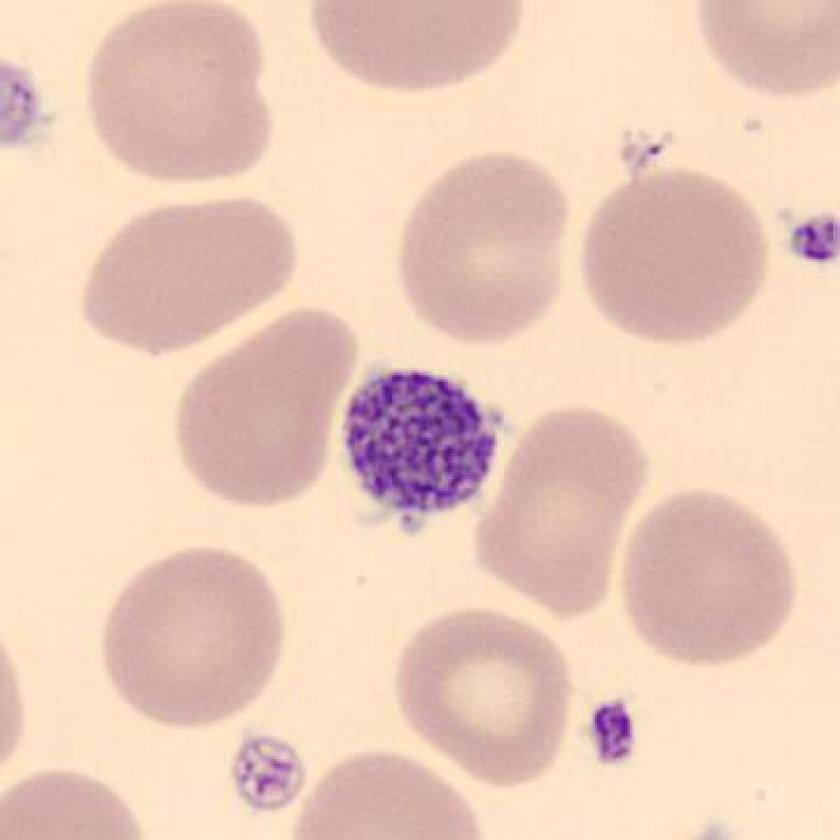platelets: (337, 367, 505, 538), (223, 733, 309, 823), (573, 691, 652, 783), (1, 56, 59, 165), (785, 207, 840, 279)
